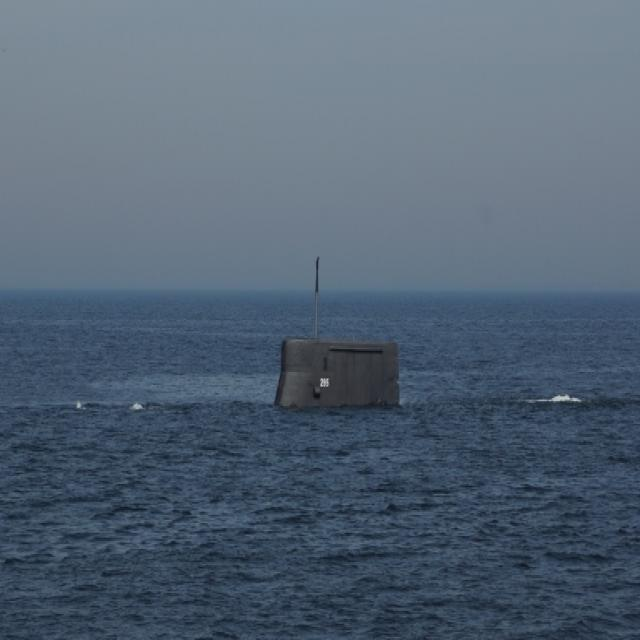submarine: (247, 258, 406, 397)
